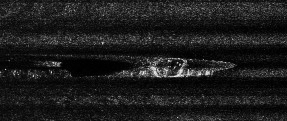ship: (5, 48, 234, 83)
